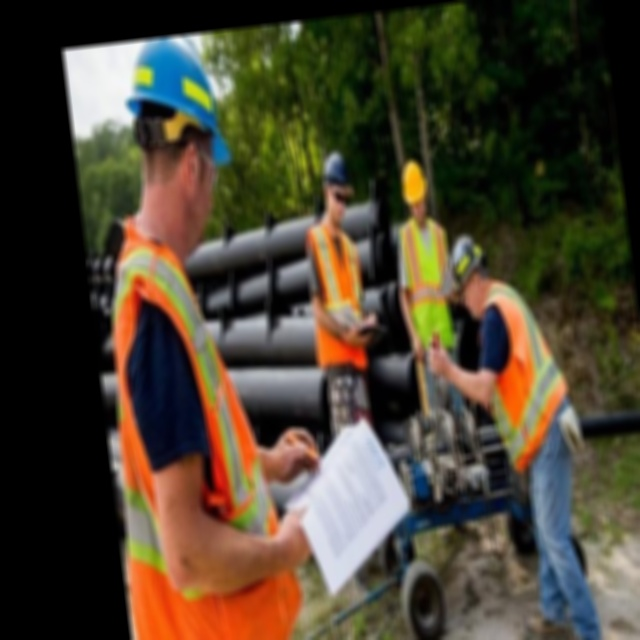Con_Chaleco: (88, 245, 297, 640), (476, 275, 573, 473), (303, 222, 372, 361), (396, 215, 459, 344)
